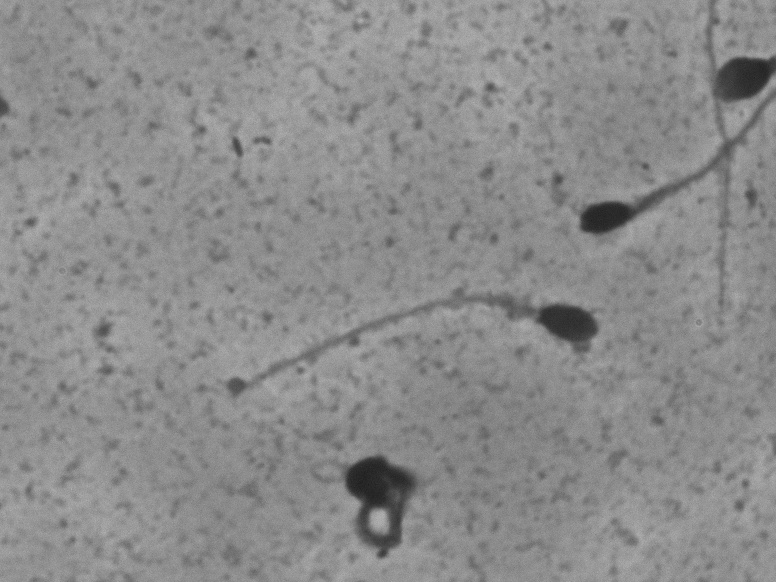Abnormal: (202, 248, 607, 458), (532, 127, 755, 267)
